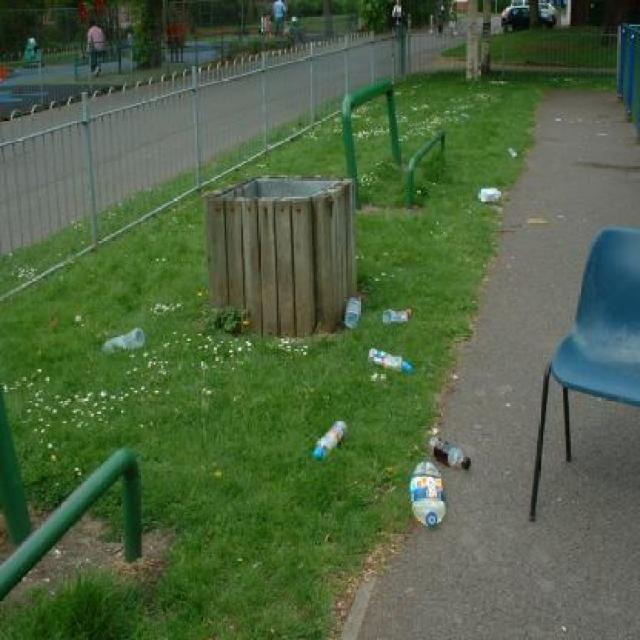garbage: (405, 429, 467, 529), (303, 415, 379, 480), (363, 292, 407, 396), (91, 329, 151, 354), (345, 294, 367, 336), (474, 179, 505, 206), (503, 135, 519, 166), (449, 103, 473, 123)
